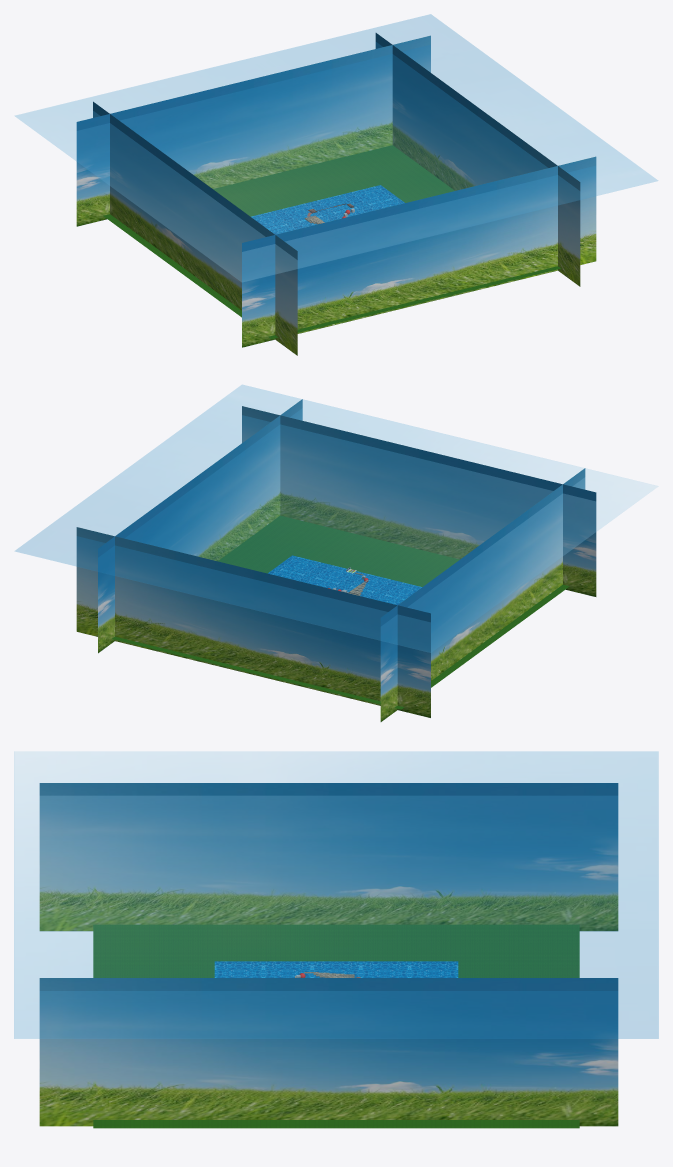
File: game3.gltf
3 views of the same model, one above another, from view 1: azimuth 30°, elevation 25°; view 2: azimuth 150°, elevation 25°; view 3: azimuth 270°, elevation 25° (orthographic). The views are drawn at different scales.
Visible parts, largest first — view 1: Plane.002, Plane.003, Plane.004, Plane.005, Plane.006, Floor, Plane.001; view 2: Plane.002, Plane.004, Plane.003, Plane.005, Plane.006, Floor, Plane.001; view 3: Plane.002, Plane.005, Plane.006, Floor, Plane.001.
Part boxes in pixels (x1,y1,x2,y2): Plane.002: [15, 14, 657, 282]; Plane.003: [242, 156, 596, 347]; Plane.004: [76, 35, 430, 226]; Plane.005: [93, 101, 297, 355]; Plane.006: [375, 33, 580, 286]; Floor: [103, 145, 560, 339]; Plane.001: [251, 185, 404, 234]; Plane.002: [15, 385, 658, 652]; Plane.004: [76, 527, 430, 717]; Plane.003: [242, 406, 596, 596]; Plane.005: [380, 468, 585, 721]; Plane.006: [98, 399, 302, 653]; Floor: [112, 515, 569, 709]; Plane.001: [268, 555, 421, 605]; Plane.002: [14, 751, 658, 1038]; Plane.005: [39, 783, 618, 931]; Plane.006: [39, 978, 618, 1126]; Floor: [93, 924, 579, 1128]; Plane.001: [214, 961, 458, 977].
Bounding box in the file's own units: 833 × 200 × 789.
Materials: 11 (11 with a texture image).
